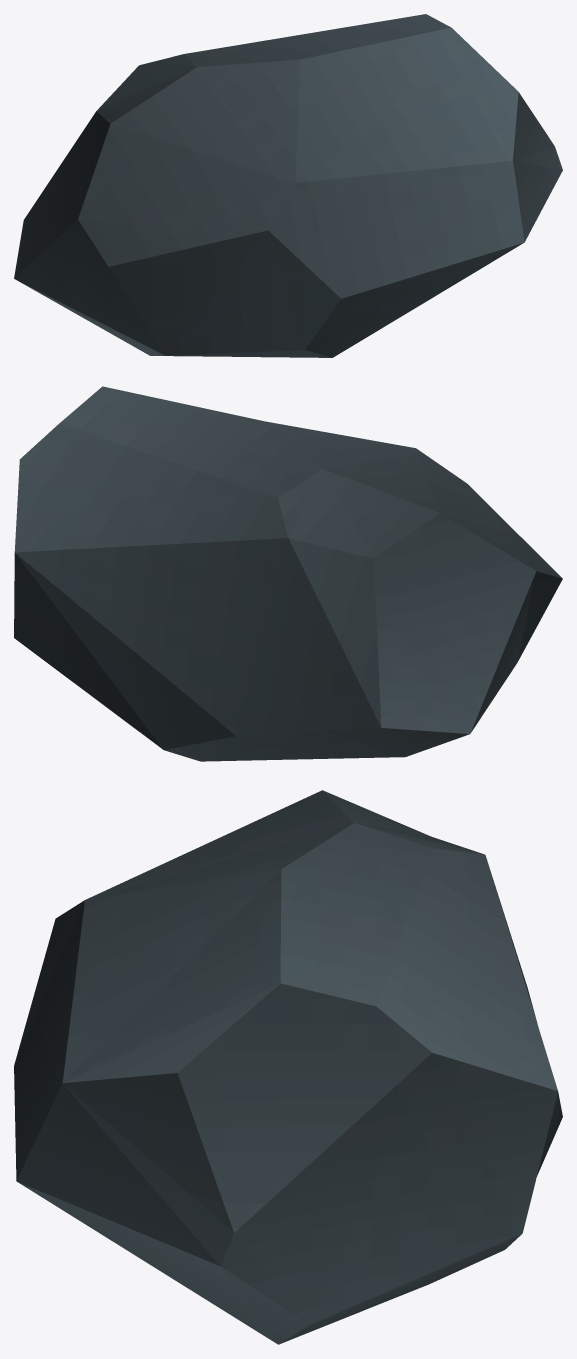
The model's file is rocha_azul.glb.
3 renders of one model, top to bottom at view 1: azimuth 30°, elevation 25°; view 2: azimuth 150°, elevation 25°; view 3: azimuth 270°, elevation 25°, orthographic. The views are drawn at different scales.
Parts seen in each view (by area): view 1: RockBlueD; view 2: RockBlueD; view 3: RockBlueD.
Part boxes in pixels (left/top/right/bottom): RockBlueD: left=14, top=14, right=562, bottom=357; RockBlueD: left=14, top=386, right=562, bottom=761; RockBlueD: left=14, top=790, right=562, bottom=1344.
Bounding box in the file's own units: 1.07 × 0.6112 × 0.7266.
1 material, 1 textured.
